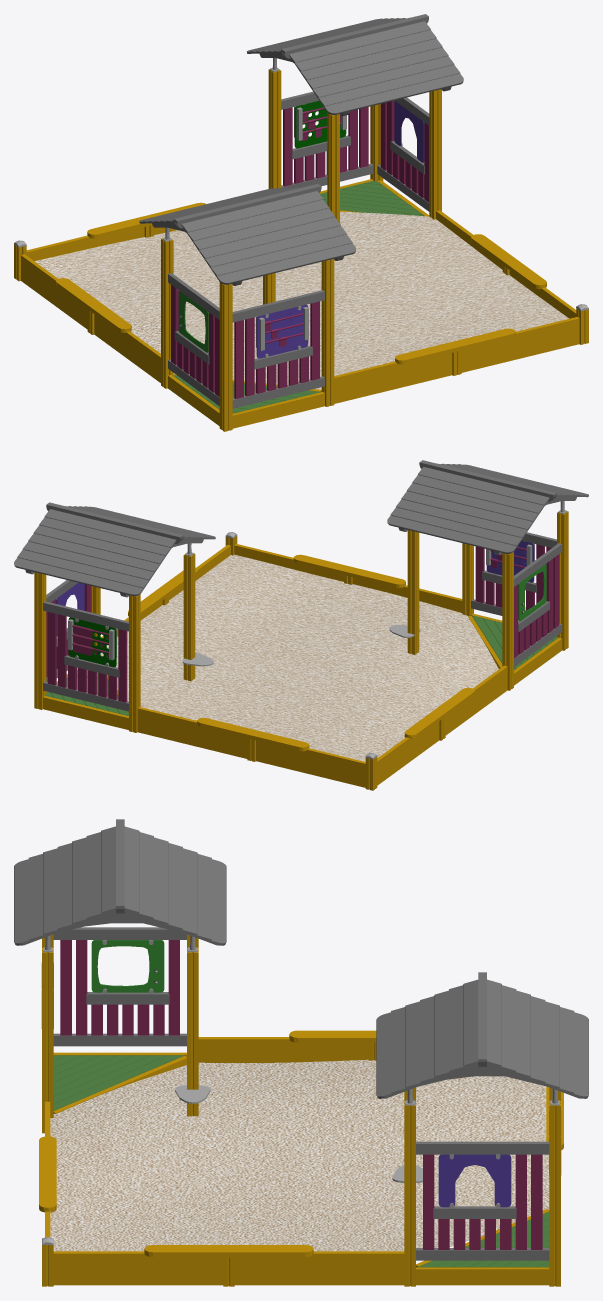
The model's file is sandpit1.obj.
3 views of the same model, one above another, from view 1: azimuth 30°, elevation 25°; view 2: azimuth 150°, elevation 25°; view 3: azimuth 270°, elevation 25° (orthographic). The views are drawn at different scales.
Visible parts, largest first — view 1: _dSolid, Plane01, _dSolid01; view 2: _dSolid, Plane01, _dSolid01; view 3: _dSolid, Plane01, _dSolid01.
Part boxes in pixels (bbox=[...]): _dSolid: bbox=[14, 14, 588, 431]; Plane01: bbox=[35, 211, 568, 390]; _dSolid01: bbox=[139, 184, 356, 285]; _dSolid: bbox=[14, 502, 568, 790]; Plane01: bbox=[100, 554, 498, 761]; _dSolid01: bbox=[387, 460, 588, 555]; _dSolid: bbox=[39, 927, 588, 1286]; Plane01: bbox=[50, 1059, 549, 1251]; _dSolid01: bbox=[14, 819, 226, 945].
Bounding box in the file's own units: 1.85 × 0.8549 × 1.87.
12 materials, 1 textured.
